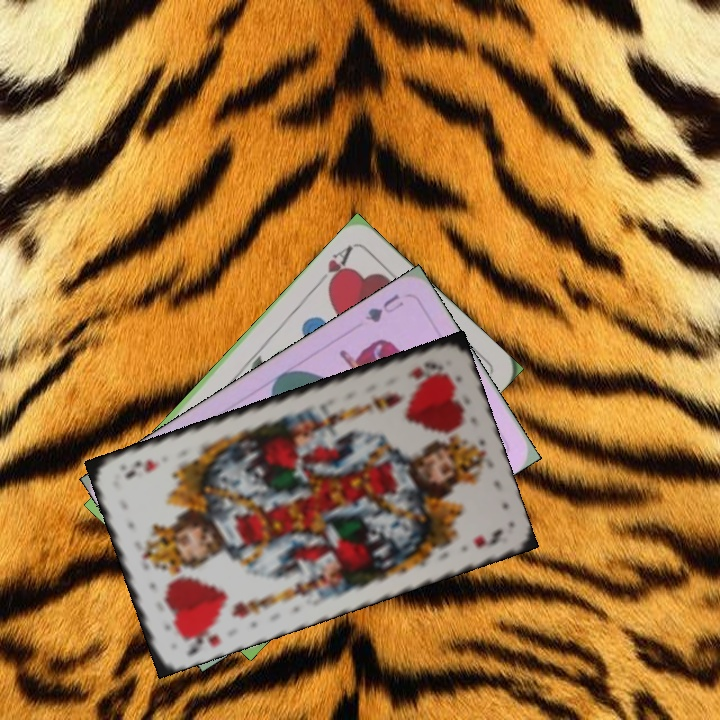GU: (361, 289, 407, 326)
HA: (311, 241, 356, 292)
HK: (178, 620, 223, 659), (403, 357, 446, 382)
